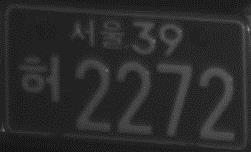2: (72, 56, 115, 134), (197, 64, 238, 141), (114, 60, 154, 137)
3: (130, 18, 157, 57)
7: (154, 60, 196, 140)
9: (157, 22, 184, 58)
서울_O: (69, 14, 128, 52)
허: (17, 52, 62, 105)
